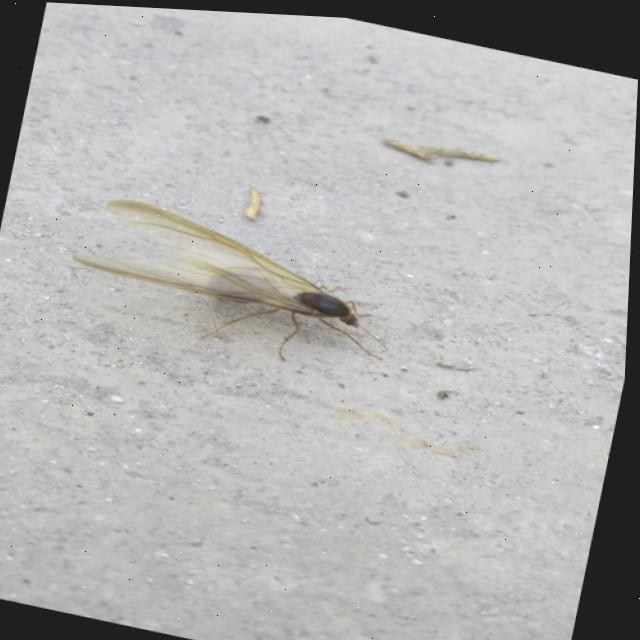Alive-Male-Alate: (62, 189, 411, 380)
